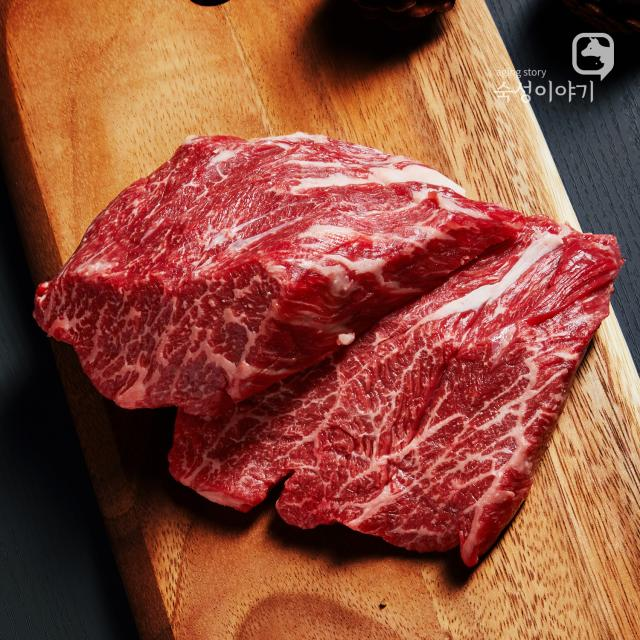beef: (283, 238, 560, 534), (128, 153, 416, 347)
